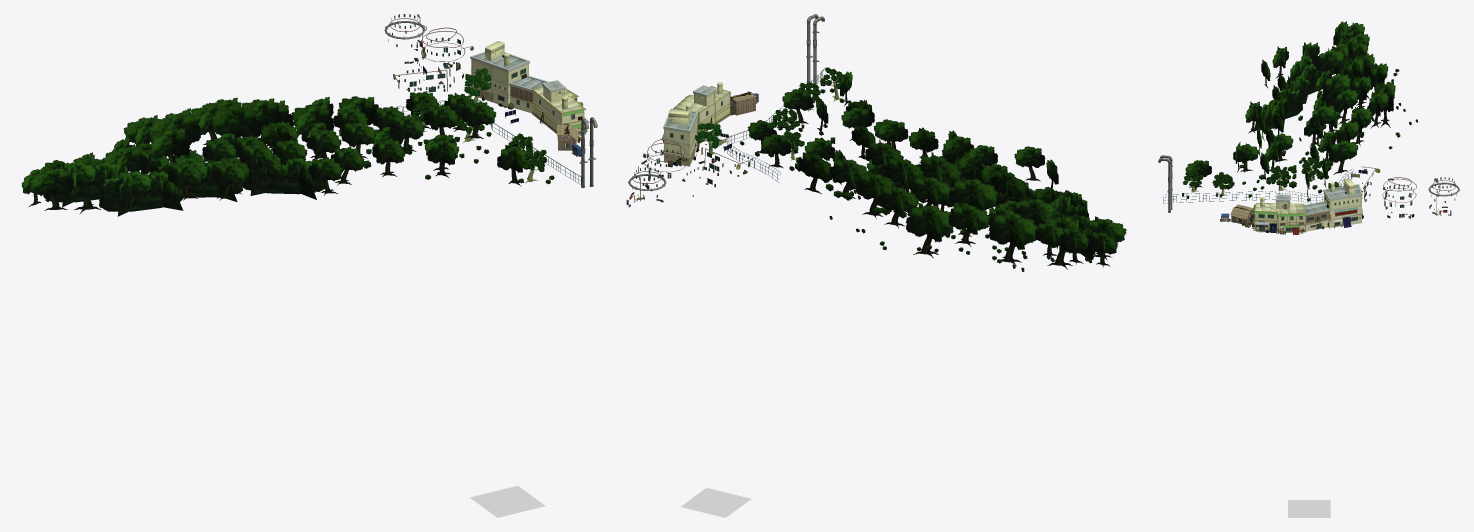
3 renders of one model, left to right at view 1: azimuth 30°, elevation 25°; view 2: azimuth 150°, elevation 25°; view 3: azimuth 270°, elevation 25°, orthographic. The views are drawn at different scales.
Visible parts, largest first — view 1: ki008_04_001, ki006_05_001, sa00ttobj00_001, sa00ttobj02_001, sa00zobj111_001, Quad_tt, ha005_09_001, sa00ttWindows, sa00ttart00_001; view 2: ki008_04_001, ki006_05_001, sa00ttobj02_001, sa00ttobj00_001, sa00zobj111_001, ha003_02_001, ha005_09_001, Quad_tt, sa00ttart00_001, sa00ttWindows; view 3: ki008_04_001, ki006_05_001, sa00ttobj00_001, sa00ttobj02_001, sa00zobj111_001, ha005_09_001, sa00ttart00_001, ha003_02_001, Quad_tt, sa00ttWindows, sa00dd0art00_001.
Boxes of the visible parts, x1,y1,x2,y2 form: ki008_04_001: [21, 91, 529, 213]; ki006_05_001: [43, 153, 324, 216]; sa00ttobj00_001: [470, 52, 589, 150]; sa00ttobj02_001: [471, 41, 585, 131]; sa00zobj111_001: [384, 17, 597, 188]; Quad_tt: [470, 485, 545, 517]; ha005_09_001: [411, 101, 547, 171]; sa00ttWindows: [388, 14, 574, 147]; sa00ttart00_001: [393, 14, 586, 144]; ki008_04_001: [747, 71, 1126, 269]; ki006_05_001: [941, 148, 1095, 259]; sa00ttobj02_001: [662, 82, 729, 157]; sa00ttobj00_001: [663, 85, 756, 166]; sa00zobj111_001: [628, 14, 824, 201]; ha003_02_001: [740, 88, 1091, 271]; ha005_09_001: [771, 67, 844, 151]; Quad_tt: [680, 488, 751, 517]; sa00ttart00_001: [626, 91, 751, 207]; sa00ttWindows: [632, 101, 752, 198]; ki008_04_001: [1185, 21, 1395, 197]; ki006_05_001: [1254, 30, 1355, 134]; sa00ttobj00_001: [1230, 184, 1362, 233]; sa00ttobj02_001: [1255, 178, 1361, 231]; sa00zobj111_001: [1158, 155, 1459, 232]; ha005_09_001: [1182, 157, 1321, 189]; sa00ttart00_001: [1231, 168, 1451, 234]; ha003_02_001: [1182, 69, 1417, 201]; Quad_tt: [1288, 500, 1330, 517]; sa00ttWindows: [1239, 169, 1456, 231]; sa00dd0art00_001: [1163, 169, 1353, 203].
Size of the model in its own units: 181 by 152 by 120.
Materials: 20 (20 with a texture image).
